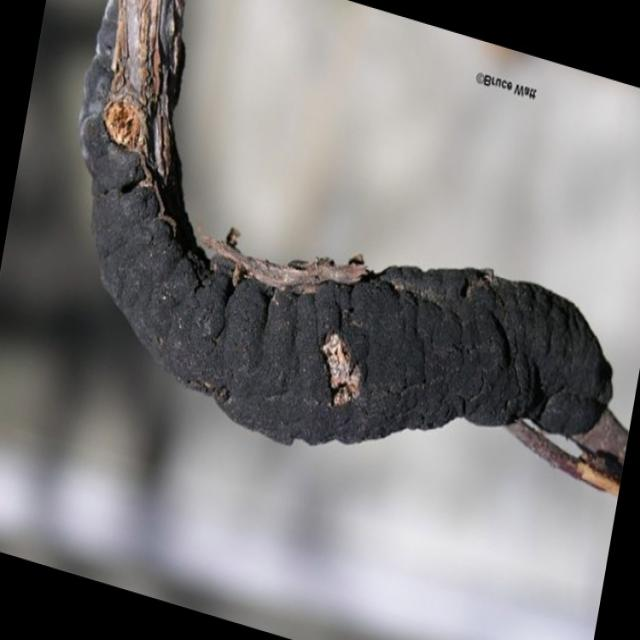Black_knot: (77, 0, 617, 453)
